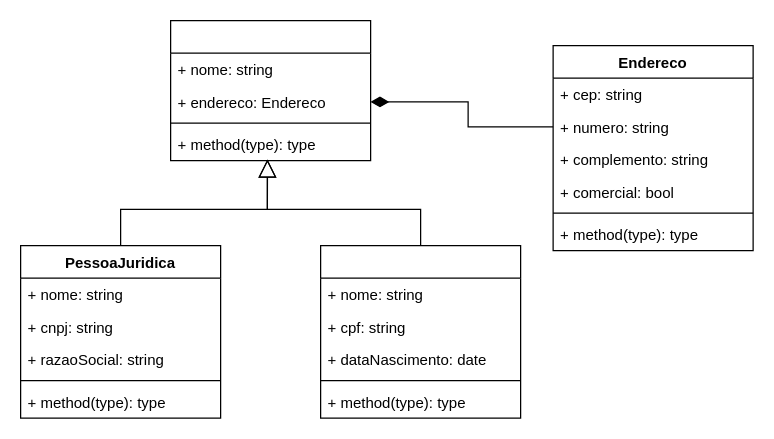
Some shapes in this 774 by 439 pixel diagram are drawn without their labels. The shapes that lost their labels are listed below. From the top down, each one's box as (x1, y1, x2, y2) in pixels, then its label:
(169, 19, 371, 161): Pessoa
(319, 244, 521, 418): PessoaFisica
